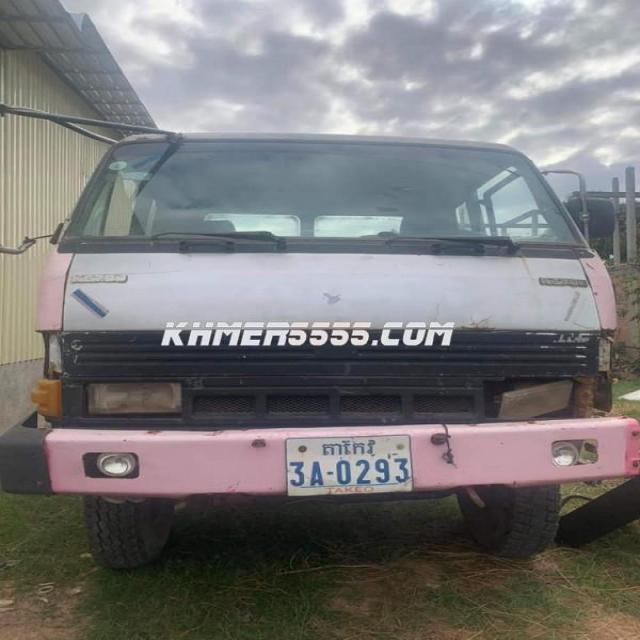Takeo: (320, 440, 375, 457)
